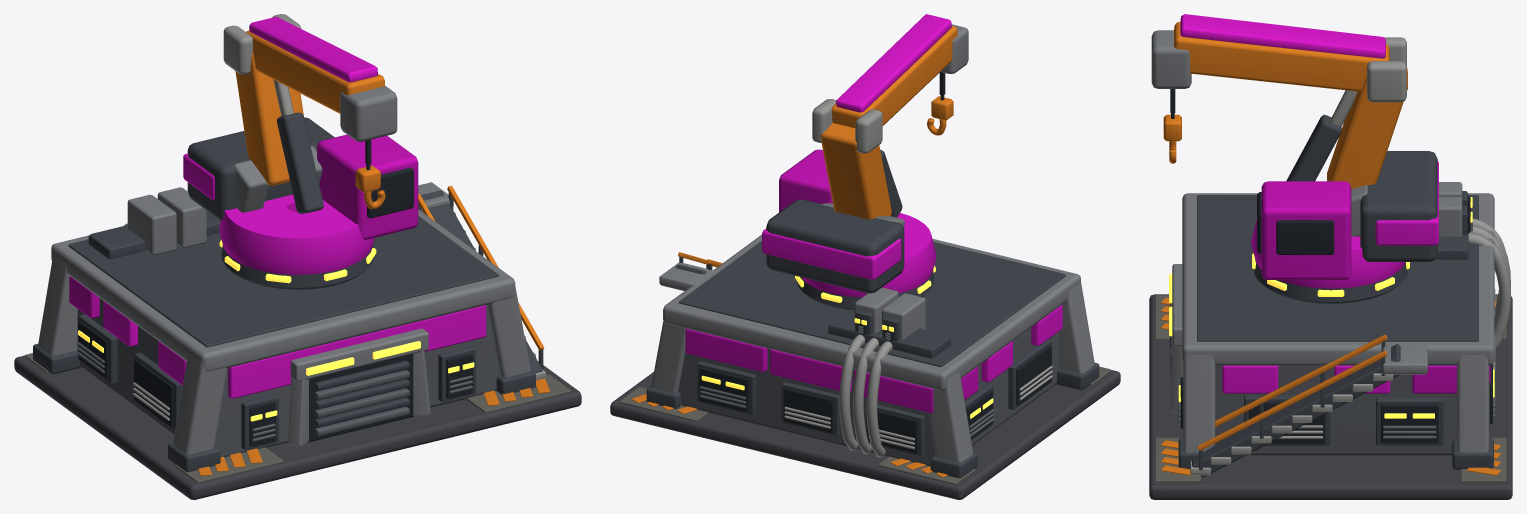
The model's file is construction-crane.glb.
The picture shows the model from 3 angles, left to right: view 1: azimuth 30°, elevation 25°; view 2: azimuth 150°, elevation 25°; view 3: azimuth 270°, elevation 25°; orthographic projection. The views are drawn at different scales.
Parts seen in each view (by area): view 1: Construction-Crane.001, Assembly, CableAndHook; view 2: Construction-Crane.001, Assembly, CableAndHook; view 3: Construction-Crane.001, Assembly, CableAndHook.
Boxes of the visible parts, left/top/right/bottom form: Construction-Crane.001: left=14, top=182, right=581, bottom=499; Assembly: left=183, top=14, right=418, bottom=274; CableAndHook: left=355, top=164, right=385, bottom=209; Construction-Crane.001: left=610, top=235, right=1120, bottom=499; Assembly: left=762, top=14, right=968, bottom=297; CableAndHook: left=927, top=95, right=953, bottom=135; Construction-Crane.001: left=1149, top=182, right=1512, bottom=499; Assembly: left=1151, top=14, right=1438, bottom=288; CableAndHook: left=1163, top=113, right=1181, bottom=163.
Bounding box in the file's own units: 3.94 × 3.61 × 3.12.
